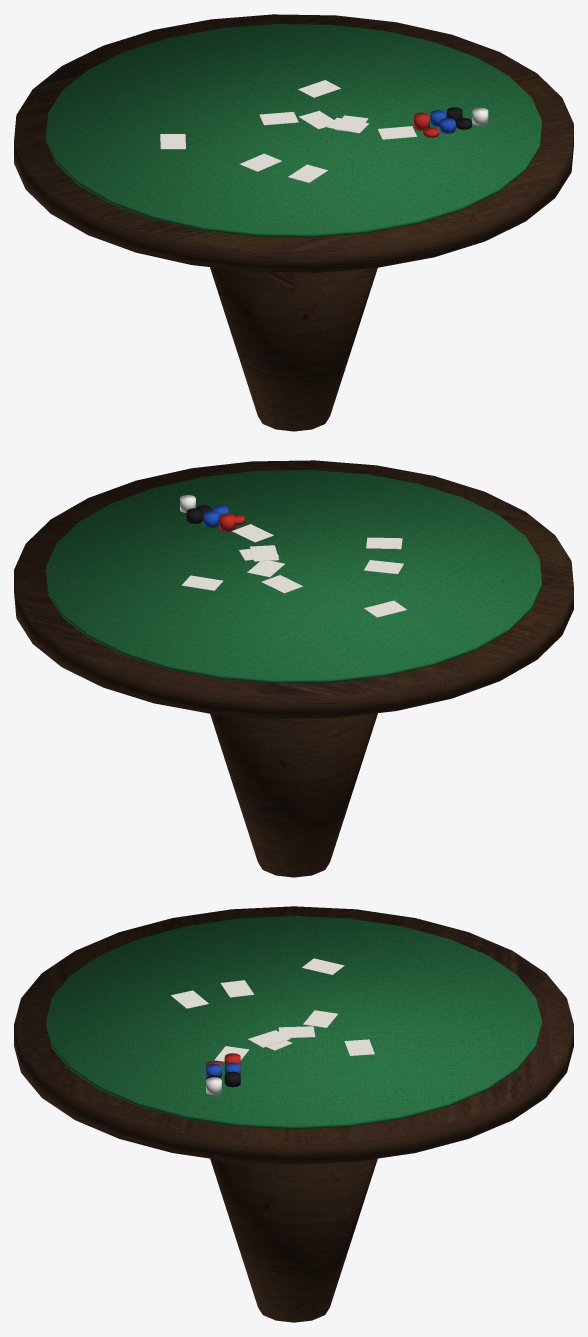
The model's file is fichas_cartas.glb.
The picture shows the model from 3 angles, top to bottom: view 1: azimuth 30°, elevation 25°; view 2: azimuth 150°, elevation 25°; view 3: azimuth 270°, elevation 25°; orthographic projection.
Parts seen in each view (by area): view 1: Mesa_Carteado_Feltro, Mesa_Carteado_Borda, Mesa_Carteado_Pe; view 2: Mesa_Carteado_Feltro, Mesa_Carteado_Borda, Mesa_Carteado_Pe; view 3: Mesa_Carteado_Feltro, Mesa_Carteado_Borda, Mesa_Carteado_Pe.
Boxes of the visible parts, box(x1,y1,x2,y2) form: Mesa_Carteado_Feltro: box(46, 24, 541, 237); Mesa_Carteado_Borda: box(14, 14, 573, 272); Mesa_Carteado_Pe: box(210, 267, 377, 431); Mesa_Carteado_Feltro: box(46, 470, 541, 683); Mesa_Carteado_Borda: box(14, 460, 573, 718); Mesa_Carteado_Pe: box(210, 713, 377, 877); Mesa_Carteado_Feltro: box(46, 916, 541, 1129); Mesa_Carteado_Borda: box(14, 906, 573, 1164); Mesa_Carteado_Pe: box(210, 1158, 377, 1322).
Size of the model in its own units: 1.4 by 0.8225 by 1.4.
Materials: 7 (2 with a texture image).
